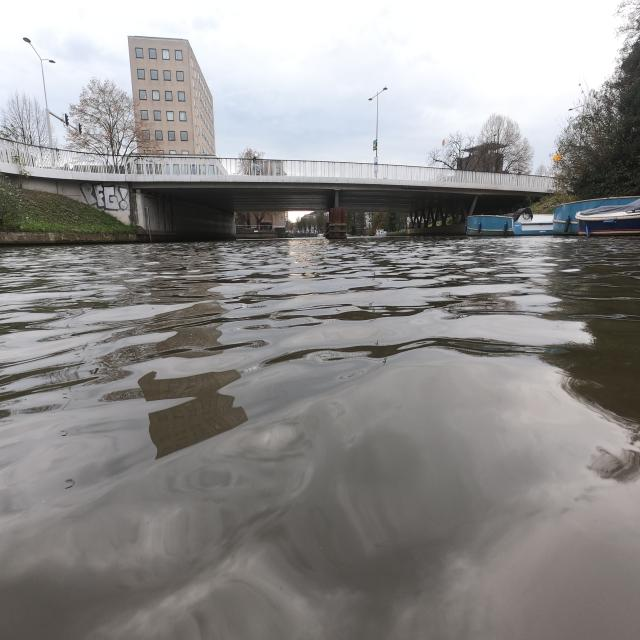boat: (553, 196, 636, 235), (466, 208, 553, 237), (576, 199, 640, 235)
dock: (2, 228, 106, 244)
grass: (0, 177, 136, 233)
sky: (2, 6, 612, 160)
tree: (558, 8, 638, 198)
wall: (558, 4, 638, 200)
water: (0, 236, 640, 640)
